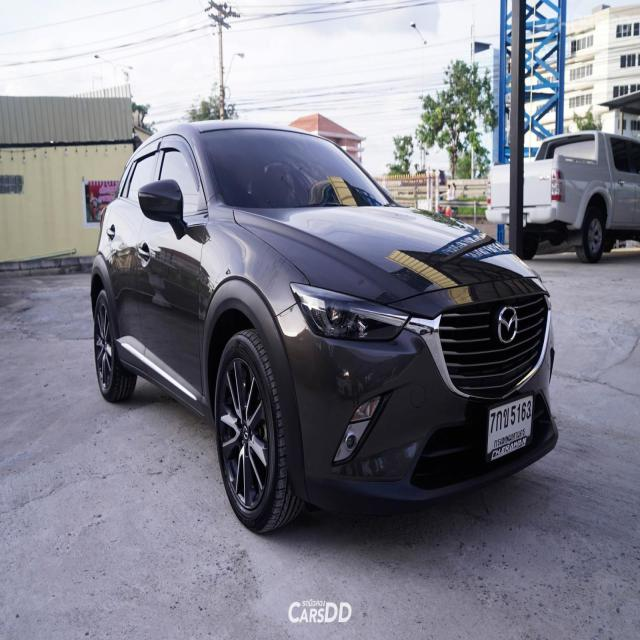license_plate: (476, 388, 541, 472)
